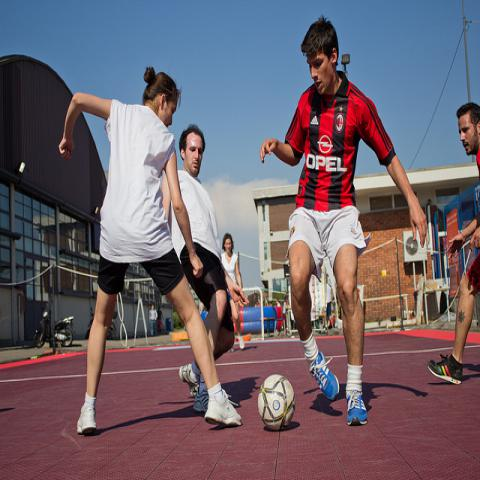motorcycle: (34, 311, 76, 349), (86, 307, 118, 339)
